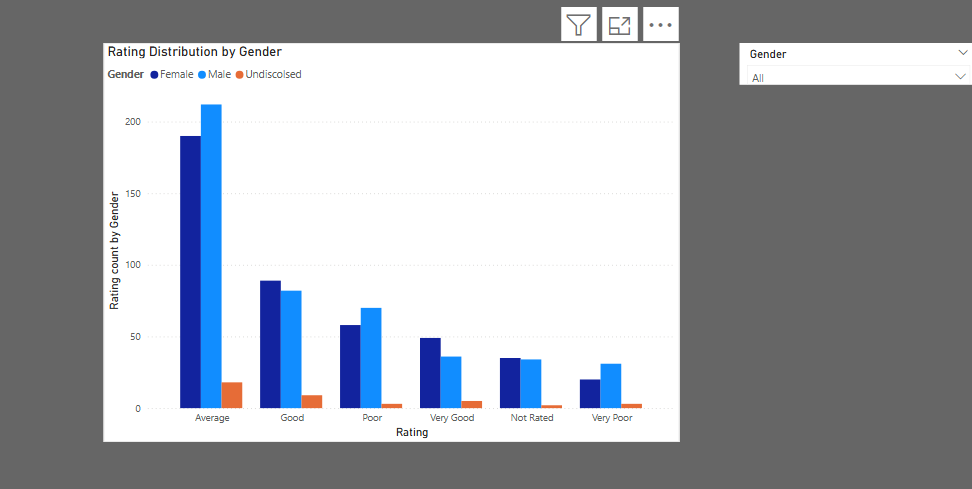

Layout of this report page (visuals, bound fields, positions):
{"tool":"powerbi","page":{"name":"Page 2","canvas":[1280,720],"ordinal":1},"visuals":[{"type":"clusteredColumnChart","title":"Rating Distribution by Gender","fields":{"Y":["Palmoria Group emp-data.Rating count by Gender"],"Category":["Palmoria Group emp-data.Rating"],"Series":["Palmoria Group emp-data.Gender"]},"box":[141.7,136.1,725.7,502.7],"z":0},{"type":"slicer","fields":{"Values":["Palmoria Group emp-data.Gender"]},"box":[943,136.1,300.5,52.9],"z":1000}]}

Visuals, with their boxes on the page's 1280x720 design canvas (x1, y1, x2, y2). These are canvas units, not pixel positions in the 972x489 screenshot, which may show the page scaled, cropped or inside an application window:
"Rating Distribution by Gender" clusteredColumnChart: <region>142, 136, 867, 639</region>
slicer - Palmoria Group emp-data.Gender: <region>943, 136, 1244, 189</region>
